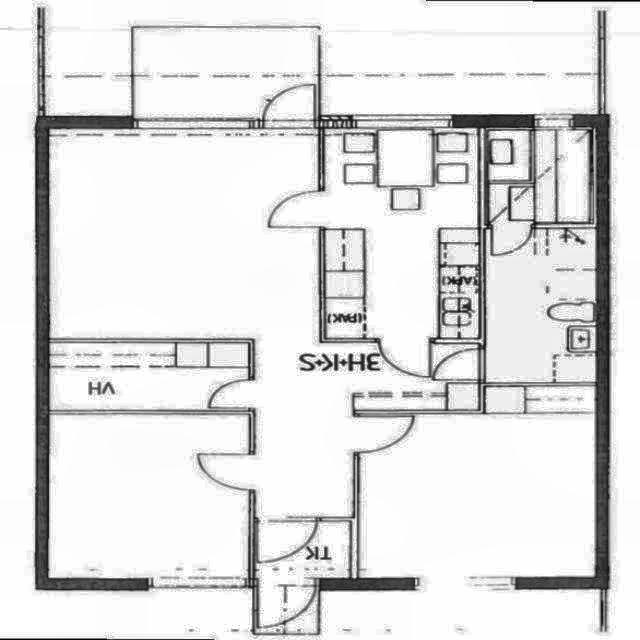room: (360, 387, 595, 577), (49, 415, 248, 578), (324, 128, 478, 338), (486, 229, 595, 382), (50, 344, 248, 410), (486, 128, 595, 225), (255, 522, 349, 577)
